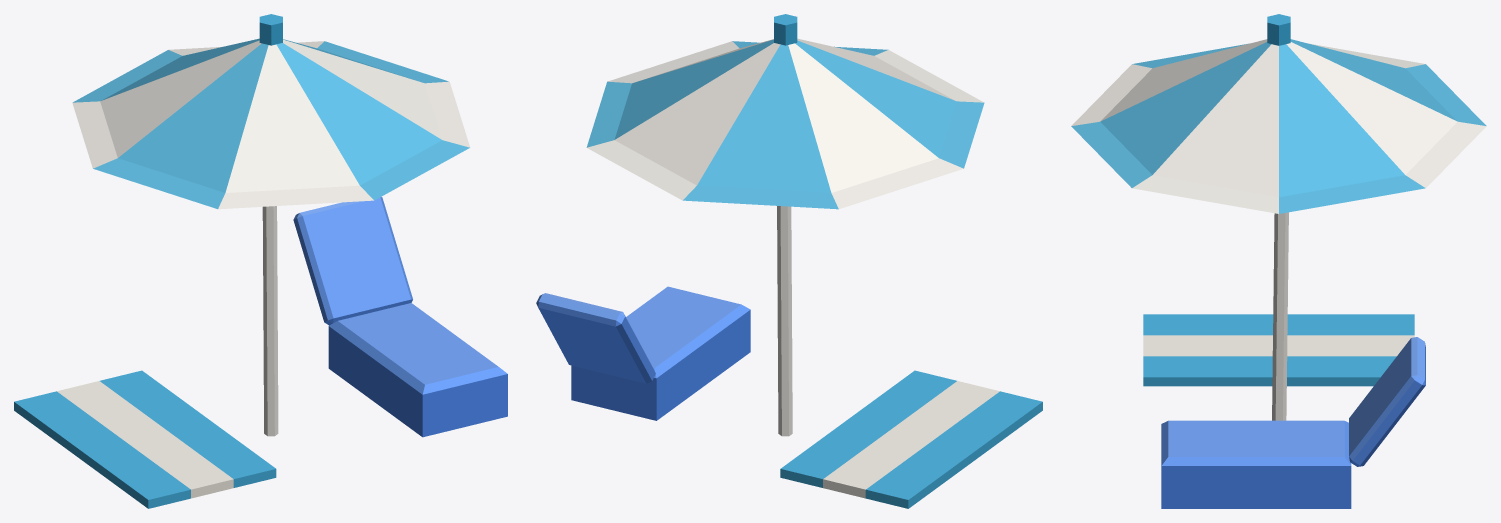
Rendered from BeachUmbrella_7.glb.
3 renders of one model, left to right at view 1: azimuth 30°, elevation 25°; view 2: azimuth 150°, elevation 25°; view 3: azimuth 270°, elevation 25°, orthographic.
Parts seen in each view (by area): view 1: BeachUmbrella_7; view 2: BeachUmbrella_7; view 3: BeachUmbrella_7.
Boxes of the visible parts, bbox=[...] form: BeachUmbrella_7: bbox=[14, 14, 507, 508]; BeachUmbrella_7: bbox=[536, 14, 1042, 508]; BeachUmbrella_7: bbox=[1071, 14, 1486, 508].
Bounding box in the file's own units: 9.5 × 10.2 × 9.2.
1 material, 1 textured.
